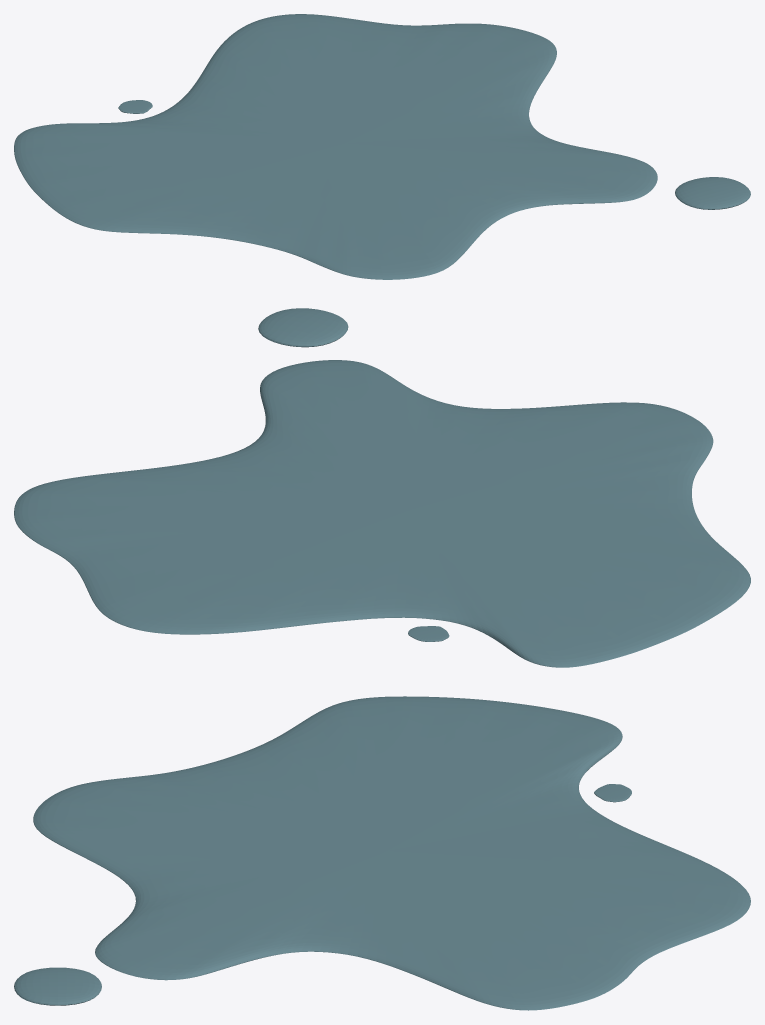
Rendered from smudge.fbx.
3 renders of one model, top to bottom at view 1: azimuth 30°, elevation 25°; view 2: azimuth 150°, elevation 25°; view 3: azimuth 270°, elevation 25°, orthographic. The views are drawn at different scales.
Visible parts, largest first — view 1: smudge; view 2: smudge; view 3: smudge.
Part boxes in pixels (box(x1,y1,x2,y2)): smudge: box(14, 14, 750, 279); smudge: box(14, 308, 750, 667); smudge: box(14, 696, 750, 1010).
Size of the model in its own units: 84.47 by 1.16 by 83.83.
